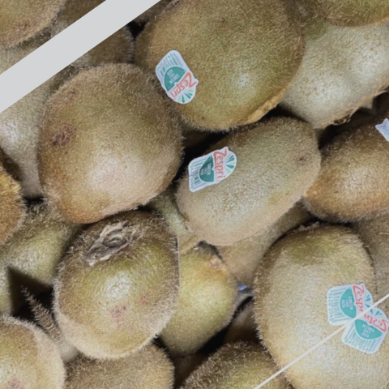kiwi: (0, 27, 232, 262), (5, 170, 226, 389), (140, 86, 357, 288), (105, 0, 346, 176), (215, 191, 389, 374)
